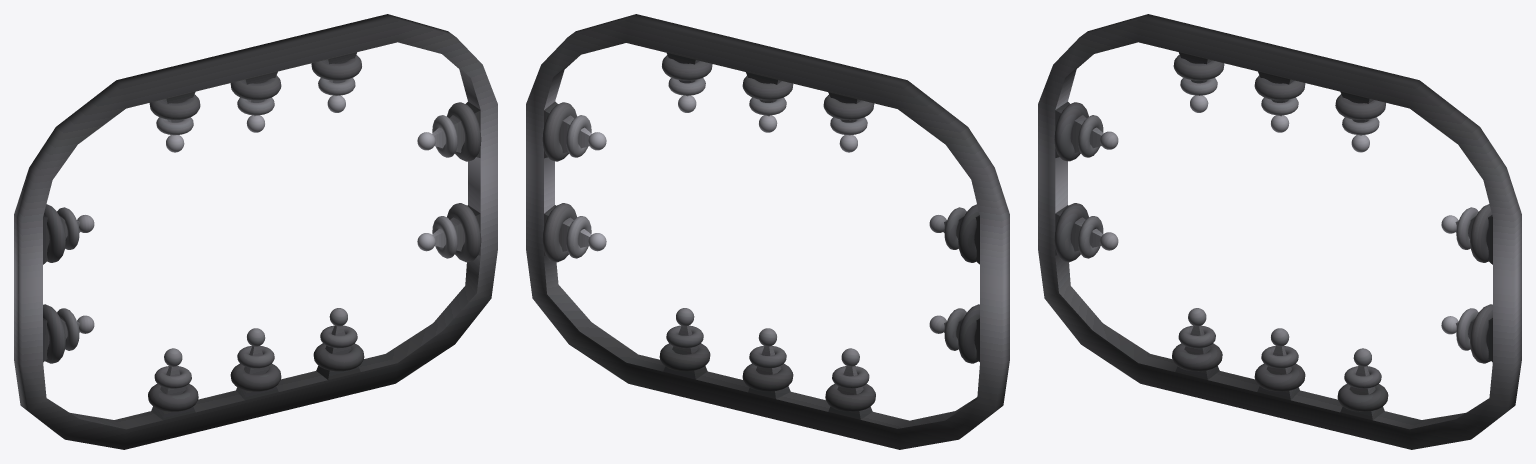
Rendered from Electric Wall.obj.
3 views of the same model, side by side, from view 1: azimuth 30°, elevation 25°; view 2: azimuth 150°, elevation 25°; view 3: azimuth 330°, elevation 25° (orthographic).
Visible parts, largest first — view 1: Electric_Wall:pTorus23; view 2: Electric_Wall:pTorus23; view 3: Electric_Wall:pTorus23.
Boxes of the visible parts, <box> form: Electric_Wall:pTorus23: <box>14,14,497,449</box>; Electric_Wall:pTorus23: <box>526,14,1009,449</box>; Electric_Wall:pTorus23: <box>1038,14,1521,449</box>.
Bounding box in the file's own units: 206 × 151 × 21.49.
Materials: 1 (1 with a texture image).
